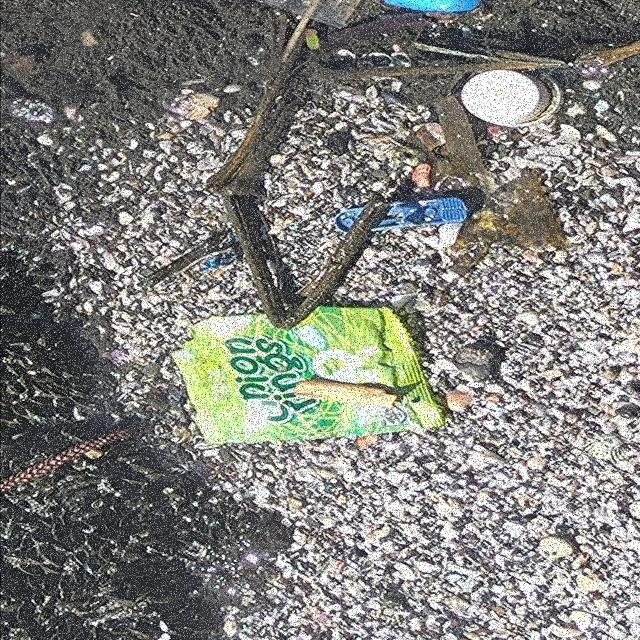plastic_waste: (169, 306, 446, 447), (460, 70, 566, 130)
